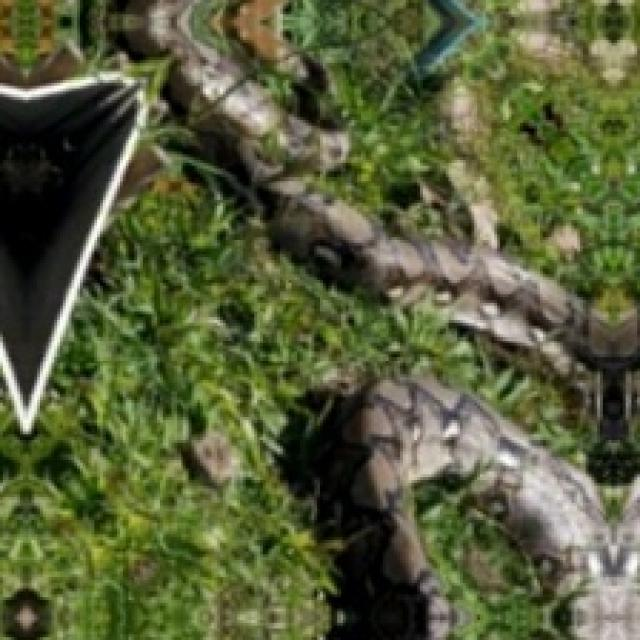reticulated python: (122, 0, 638, 378), (323, 377, 637, 637)
